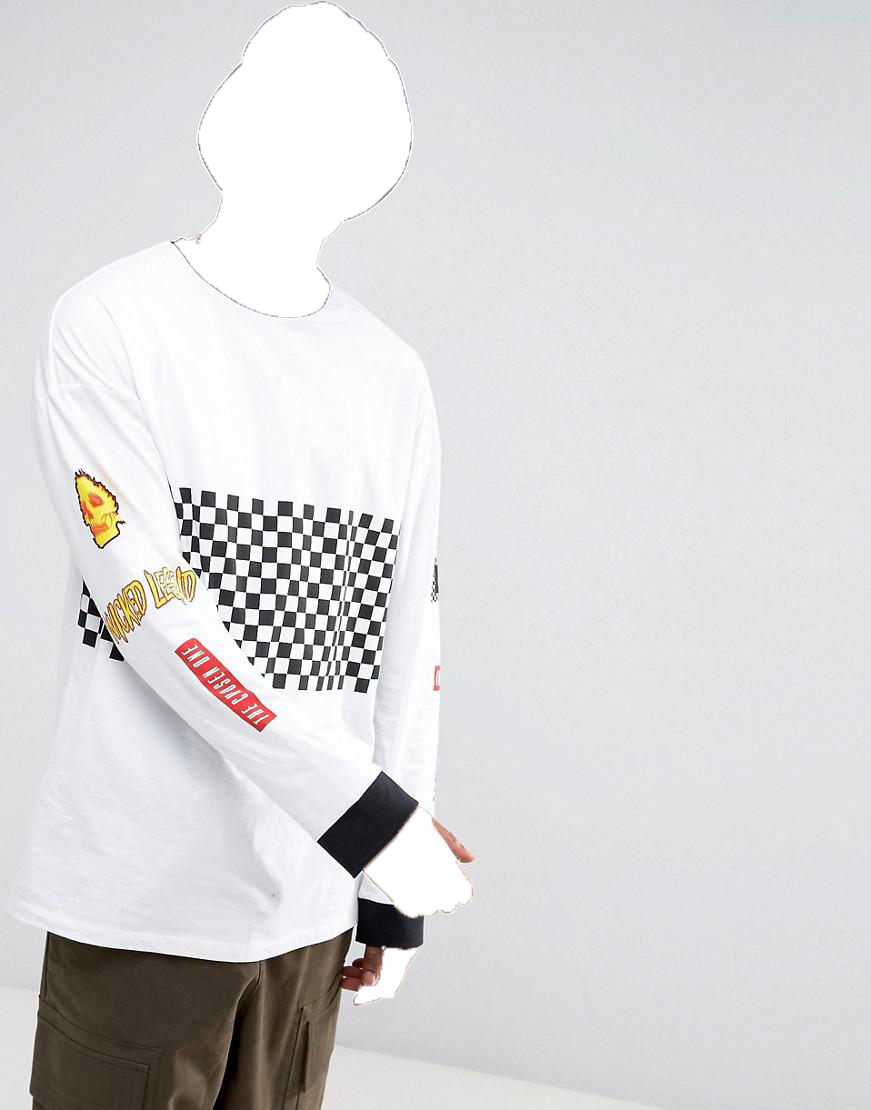teeshirt: (32, 239, 459, 981)
